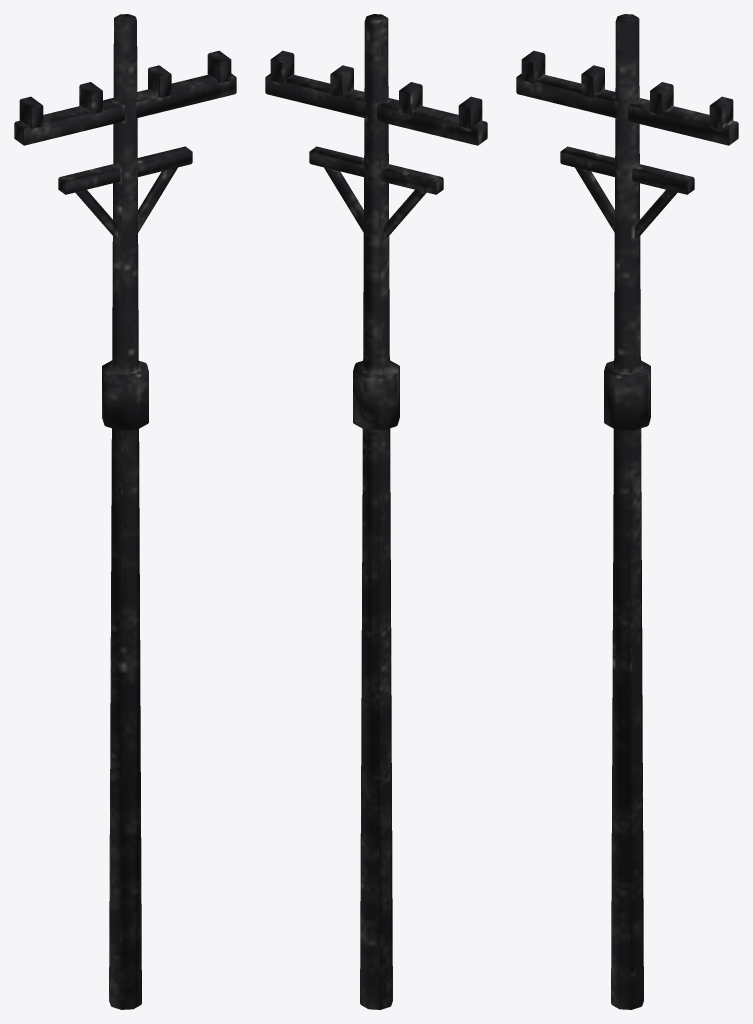
The model's file is Prop_Poste.fbx.
The picture shows the model from 3 angles, left to right: view 1: azimuth 30°, elevation 25°; view 2: azimuth 150°, elevation 25°; view 3: azimuth 330°, elevation 25°; orthographic projection.
Visible parts, largest first — view 1: Prop_Poste; view 2: Prop_Poste; view 3: Prop_Poste.
Part boxes in pixels (x1,y1,x2,y2): Prop_Poste: (14,14,236,1009); Prop_Poste: (265,14,487,1009); Prop_Poste: (516,14,738,1009).
Size of the model in its own units: 5 by 22 by 0.986.
